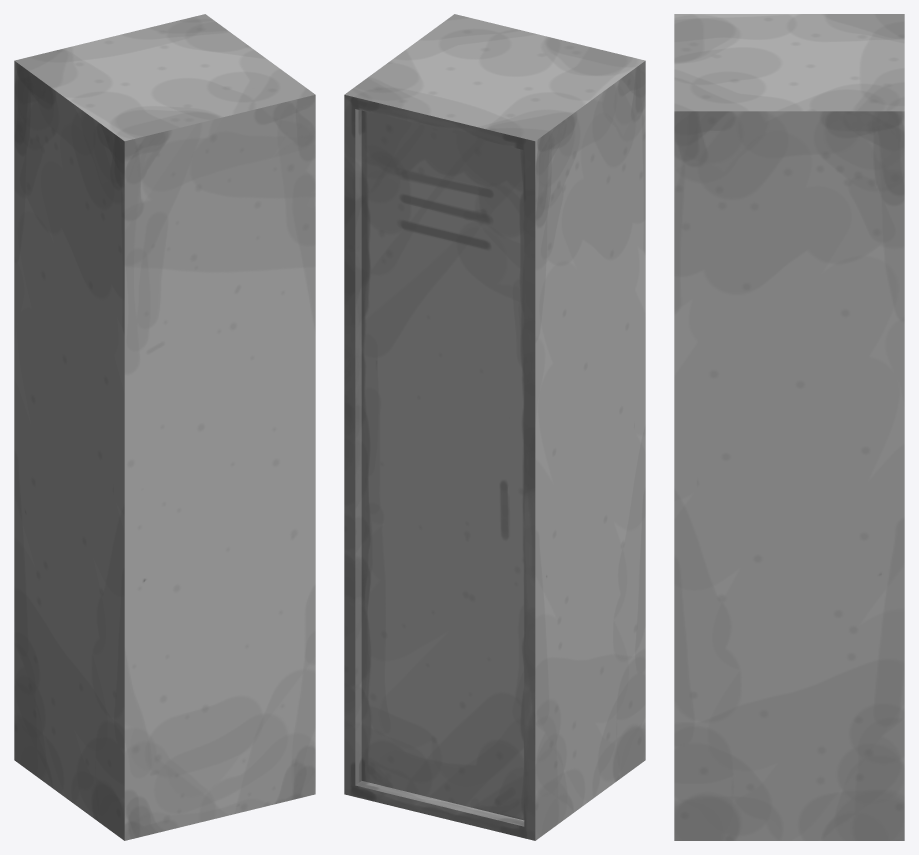
File: locker.FBX
3 views of the same model, side by side, from view 1: azimuth 30°, elevation 25°; view 2: azimuth 150°, elevation 25°; view 3: azimuth 270°, elevation 25° (orthographic). The views are drawn at different scales.
Parts seen in each view (by area): view 1: locker; view 2: locker; view 3: locker.
Part boxes in pixels (x1,y1,x2,y2): locker: (14, 14, 315, 840); locker: (344, 14, 645, 840); locker: (674, 14, 904, 840).
Size of the model in its own units: 1 by 3.5 by 1.
Materials: 1 (1 with a texture image).
